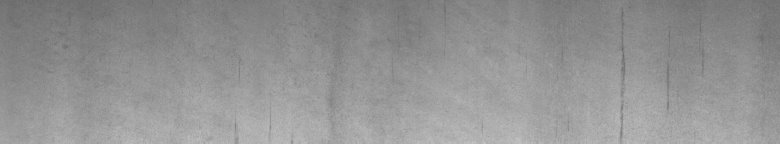ka: (616, 12, 669, 136)
